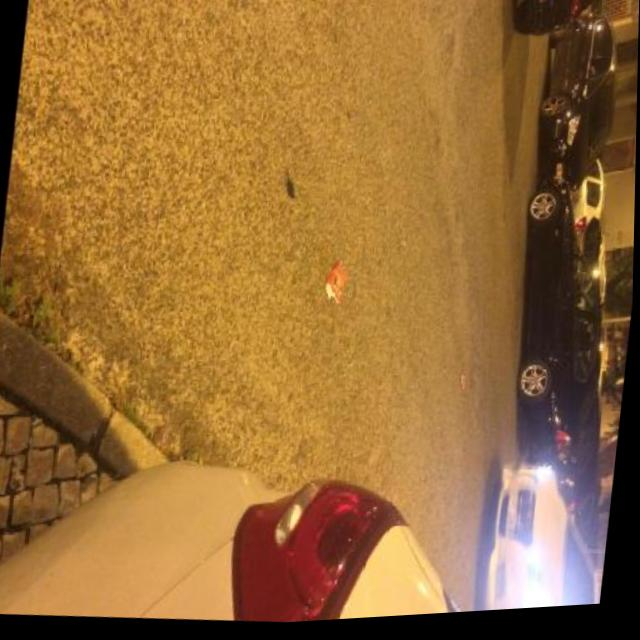cardboard: (322, 260, 345, 302)
